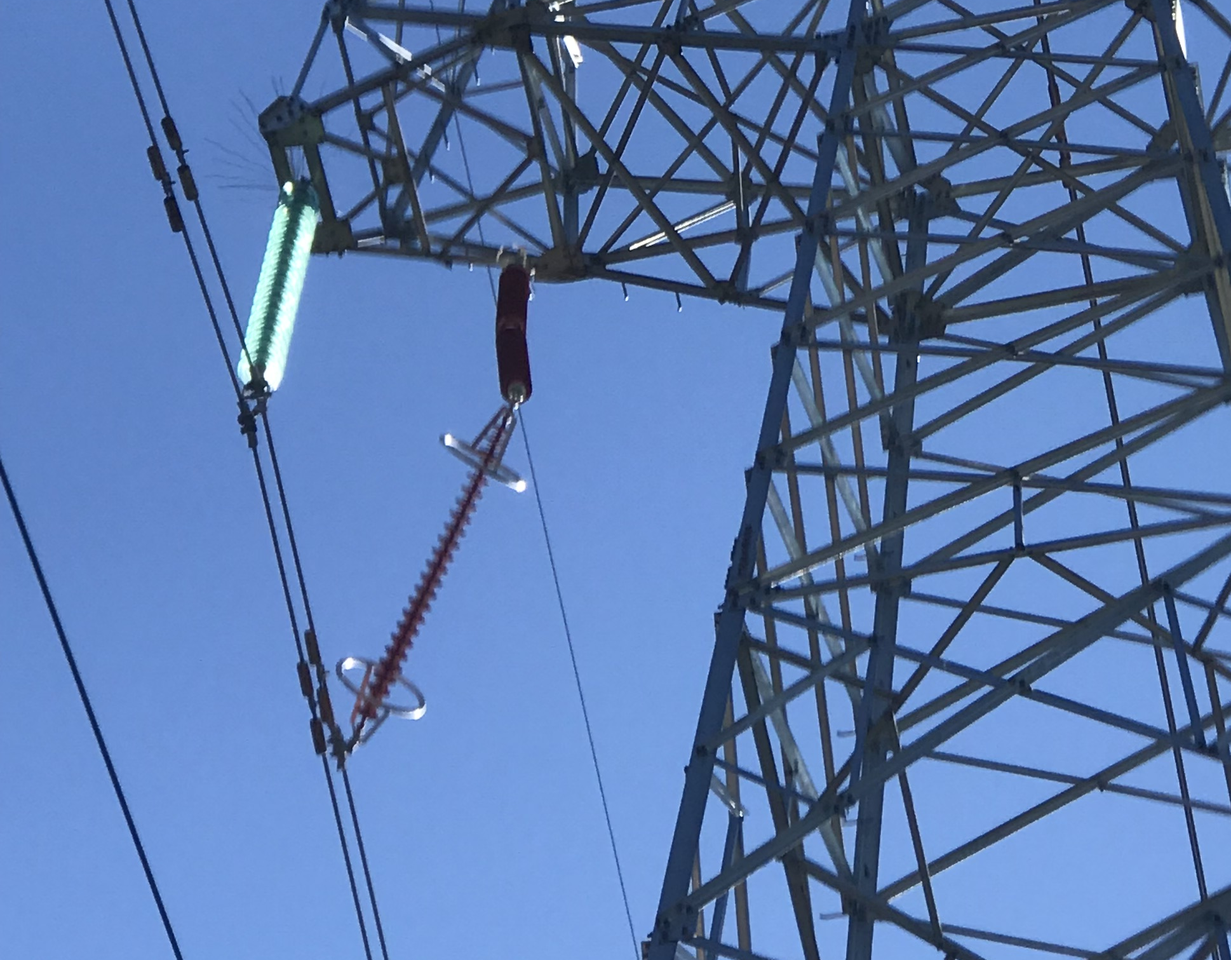damper: (142, 143, 189, 234), (160, 112, 200, 206), (294, 658, 330, 759), (304, 623, 336, 727)
